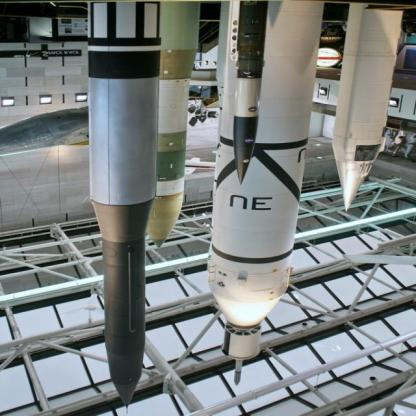MIL_TBM: (85, 0, 161, 414), (333, 3, 407, 210)
